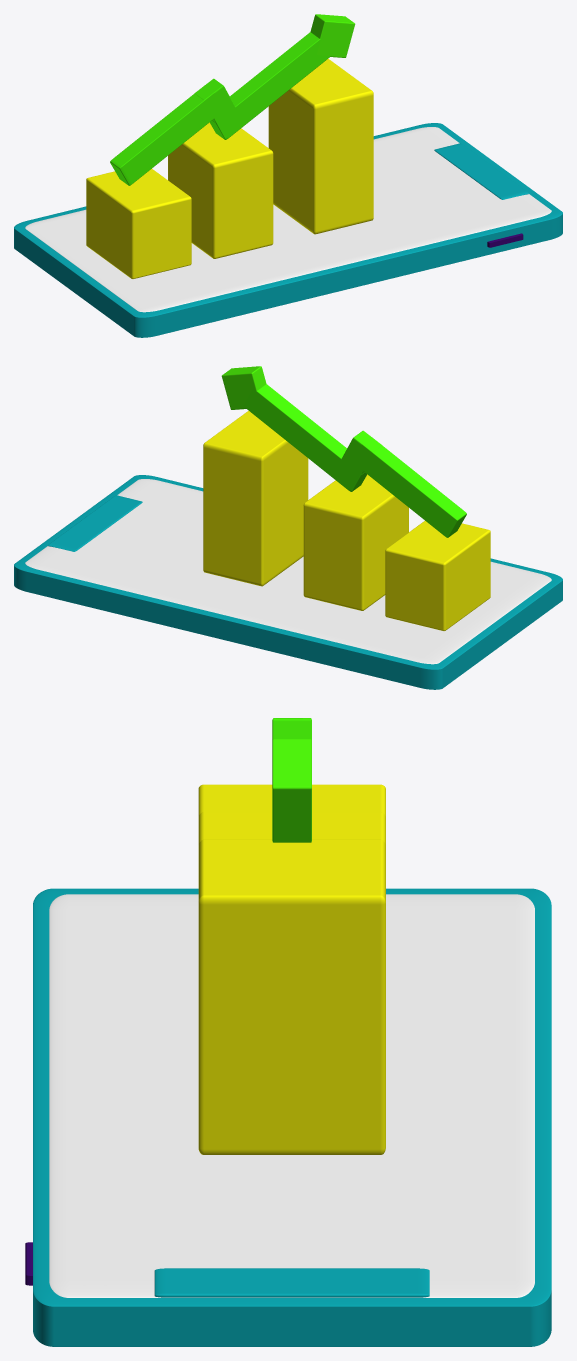
Rendered from Graph Arrow 01.glb.
3 views of the same model, one above another, from view 1: azimuth 30°, elevation 25°; view 2: azimuth 150°, elevation 25°; view 3: azimuth 270°, elevation 25° (orthographic). The views are drawn at different scales.
Parts seen in each view (by area): view 1: cube (3), cube (2) (×2), cube (6), cube (4) (×2), cube (5), cube (1), cube (8), cube (7); view 2: cube (3), cube (2) (×2), cube (6), cube (4) (×2), cube (5), cube (1), cube (8), cube (7); view 3: cube (3), cube (6), cube (2) (×2), cube (4) (×2), cube (5), cube (7).
Part boxes in pixels (x1,y1,x2,y2): cube (3): (25,127,551,312); cube (2) (×2): (14,14,562,337); cube (6): (268,58,373,234); cube (4) (×2): (86,143,528,278); cube (5): (168,122,273,258); cube (1): (210,32,330,139); cube (8): (110,92,223,185); cube (7): (194,78,243,139); cube (3): (25,479,551,664); cube (2) (×2): (14,366,562,689); cube (6): (203,410,308,586); cube (4) (×2): (48,495,490,630); cube (5): (303,474,408,610); cube (1): (243,384,366,491); cube (8): (361,444,466,537); cube (7): (333,430,382,491); cube (3): (49,894,534,1297); cube (6): (198,839,385,1154); cube (2) (×2): (33,739,551,1346); cube (4) (×2): (154,784,429,1297); cube (5): (198,812,385,846); cube (7): (272,718,311,740).
Size of the model in its own units: 4.78 by 2.3 by 2.54.
